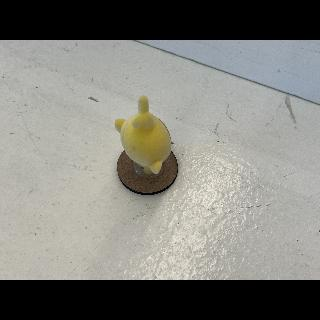teletubby: (115, 96, 171, 175)
